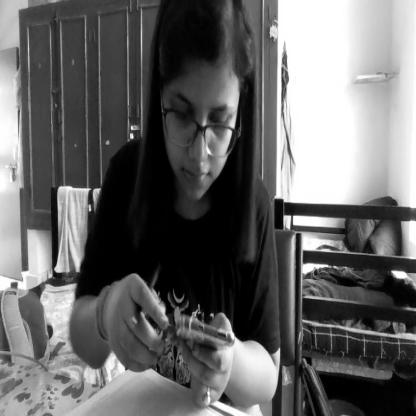Normal: (154, 0, 248, 205)
